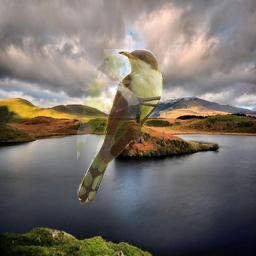Cuckoo: (77, 49, 163, 205)
